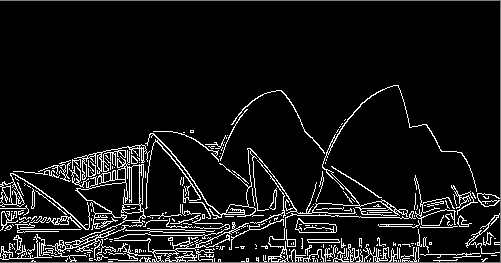opera house: (17, 58, 490, 239)
